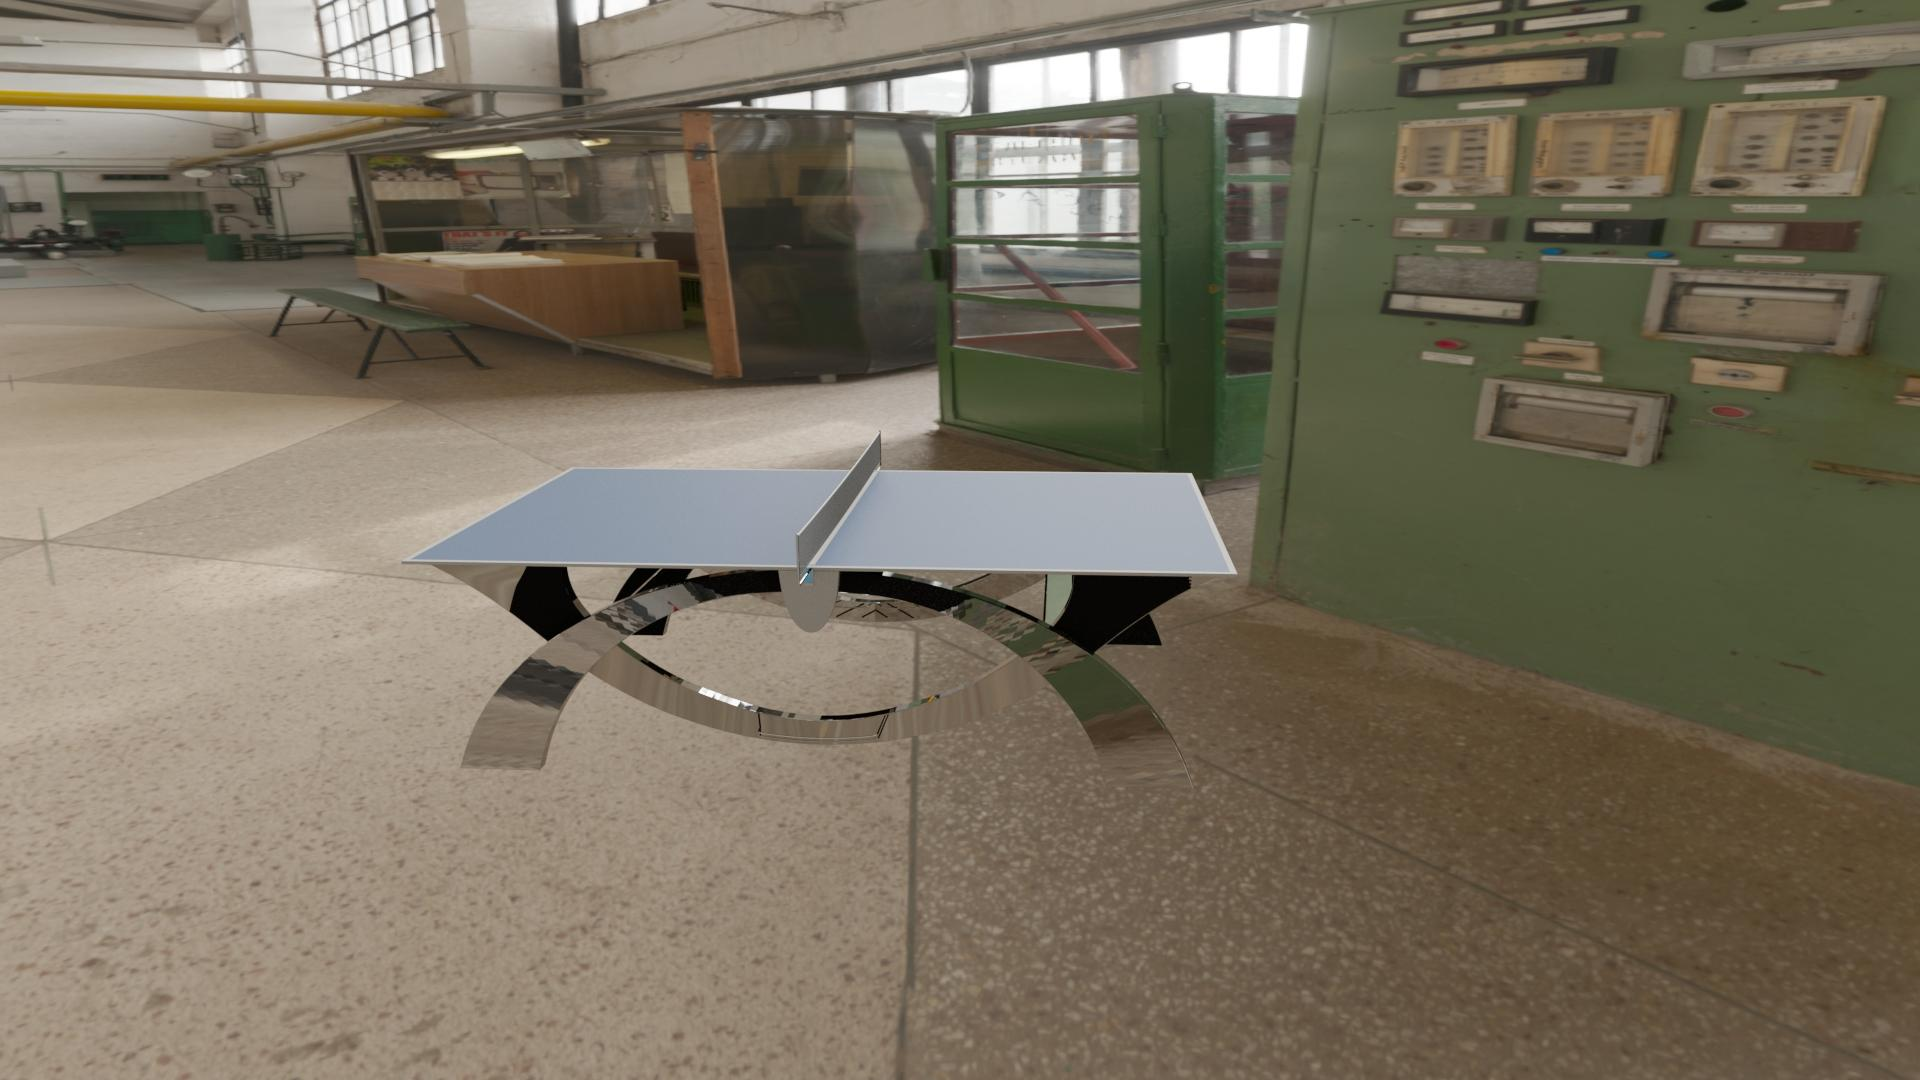table: (410, 468, 1230, 572)
